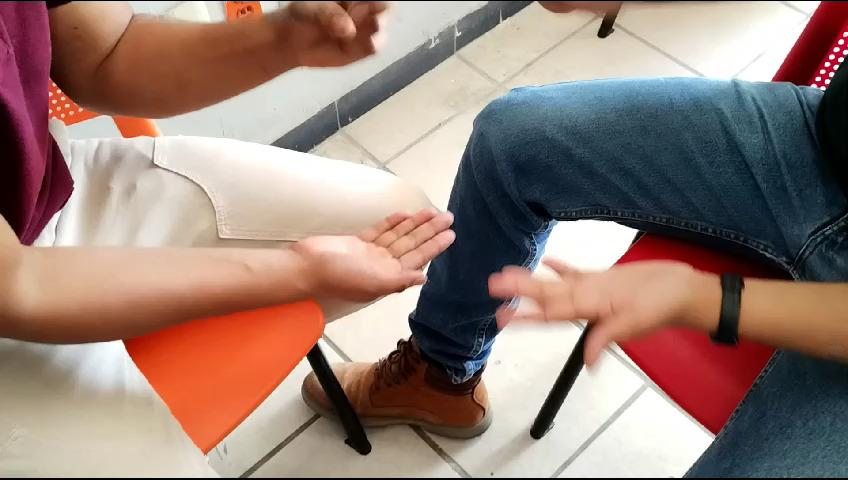Paper: (282, 203, 461, 308)
